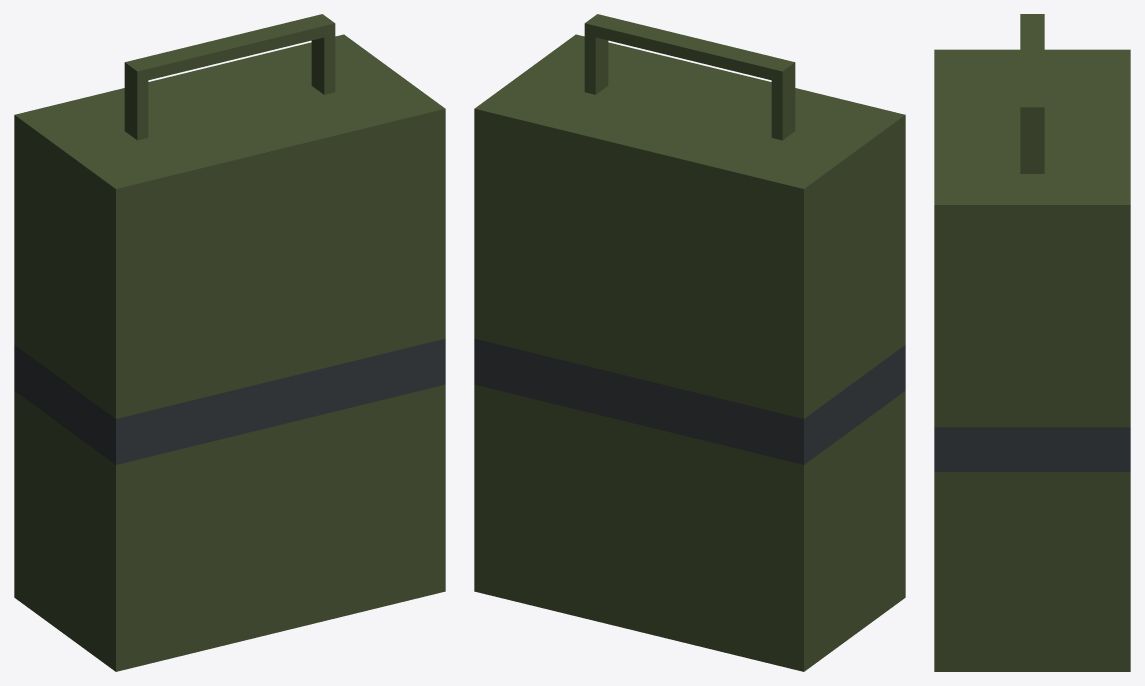
File: jerry_can.glb
The picture shows the model from 3 angles, left to right: view 1: azimuth 30°, elevation 25°; view 2: azimuth 150°, elevation 25°; view 3: azimuth 270°, elevation 25°; orthographic projection. The views are drawn at different scales.
Parts seen in each view (by area): view 1: package:carton; view 2: package:carton; view 3: package:carton.
Boxes of the visible parts, x1,y1,x2,y2 form: package:carton: (14, 14, 445, 671); package:carton: (474, 14, 905, 671); package:carton: (934, 14, 1130, 671).
Bounding box in the file's own units: 0.3 × 0.48 × 0.16.
